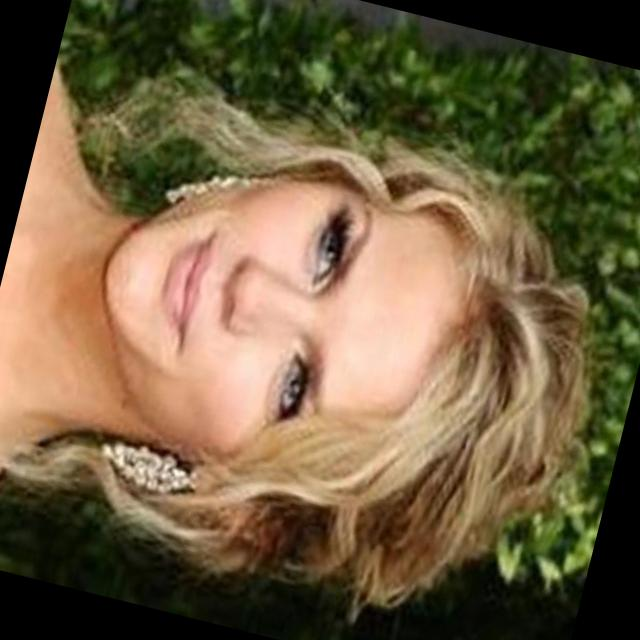bareface: (53, 113, 480, 520)
